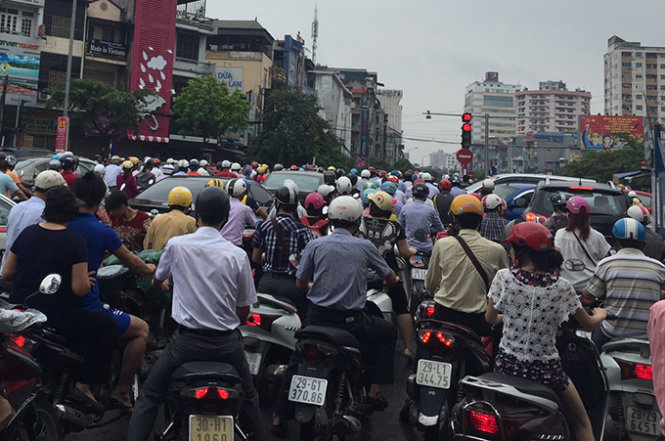Bien-so: (190, 413, 234, 440), (626, 405, 662, 437), (290, 376, 326, 406), (416, 358, 450, 389), (245, 351, 262, 376), (412, 267, 428, 280)
